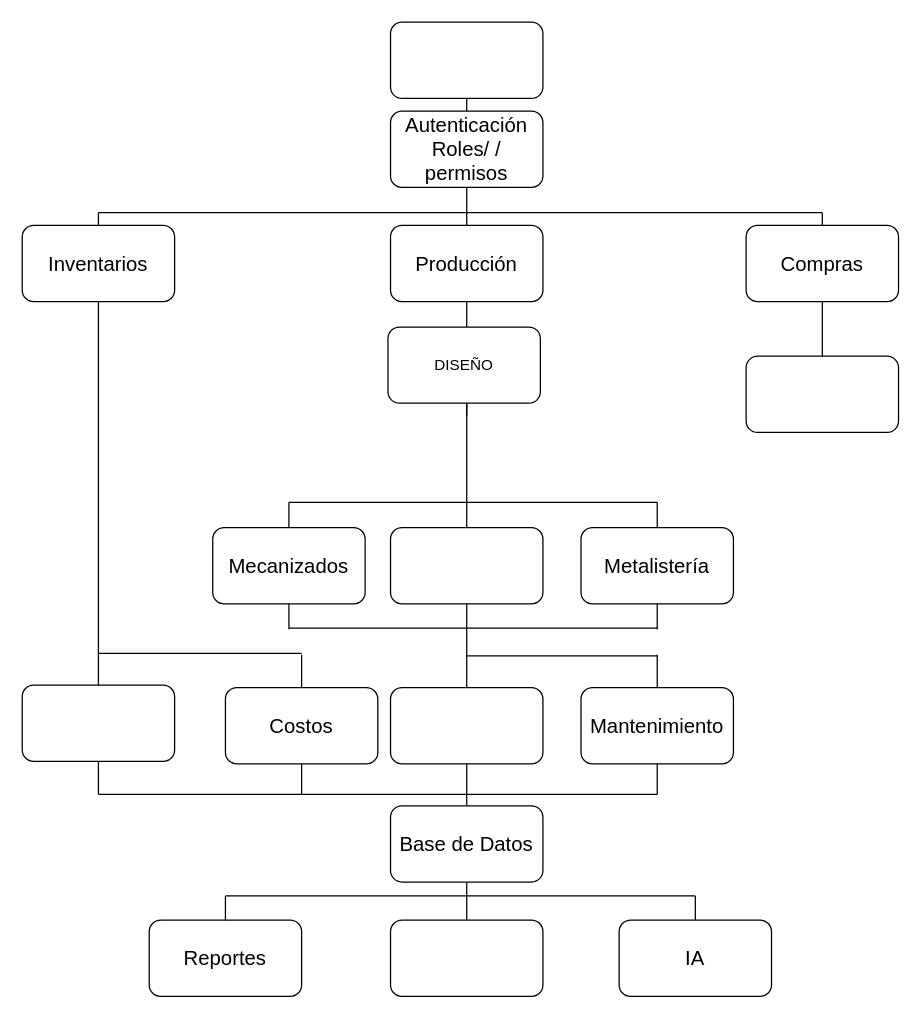
Image size: 921x1019. Some labels were removed from this diagram. The centre of each missing label's shape, as x and y in pixels:
"Calidad" goes at (x=466, y=725).
"Dashboard" goes at (x=466, y=957).
"Logística" goes at (x=98, y=722).
"Proveedores" goes at (x=822, y=393).
"Servicios" goes at (x=466, y=565).
"Usuarios" goes at (x=466, y=59).
